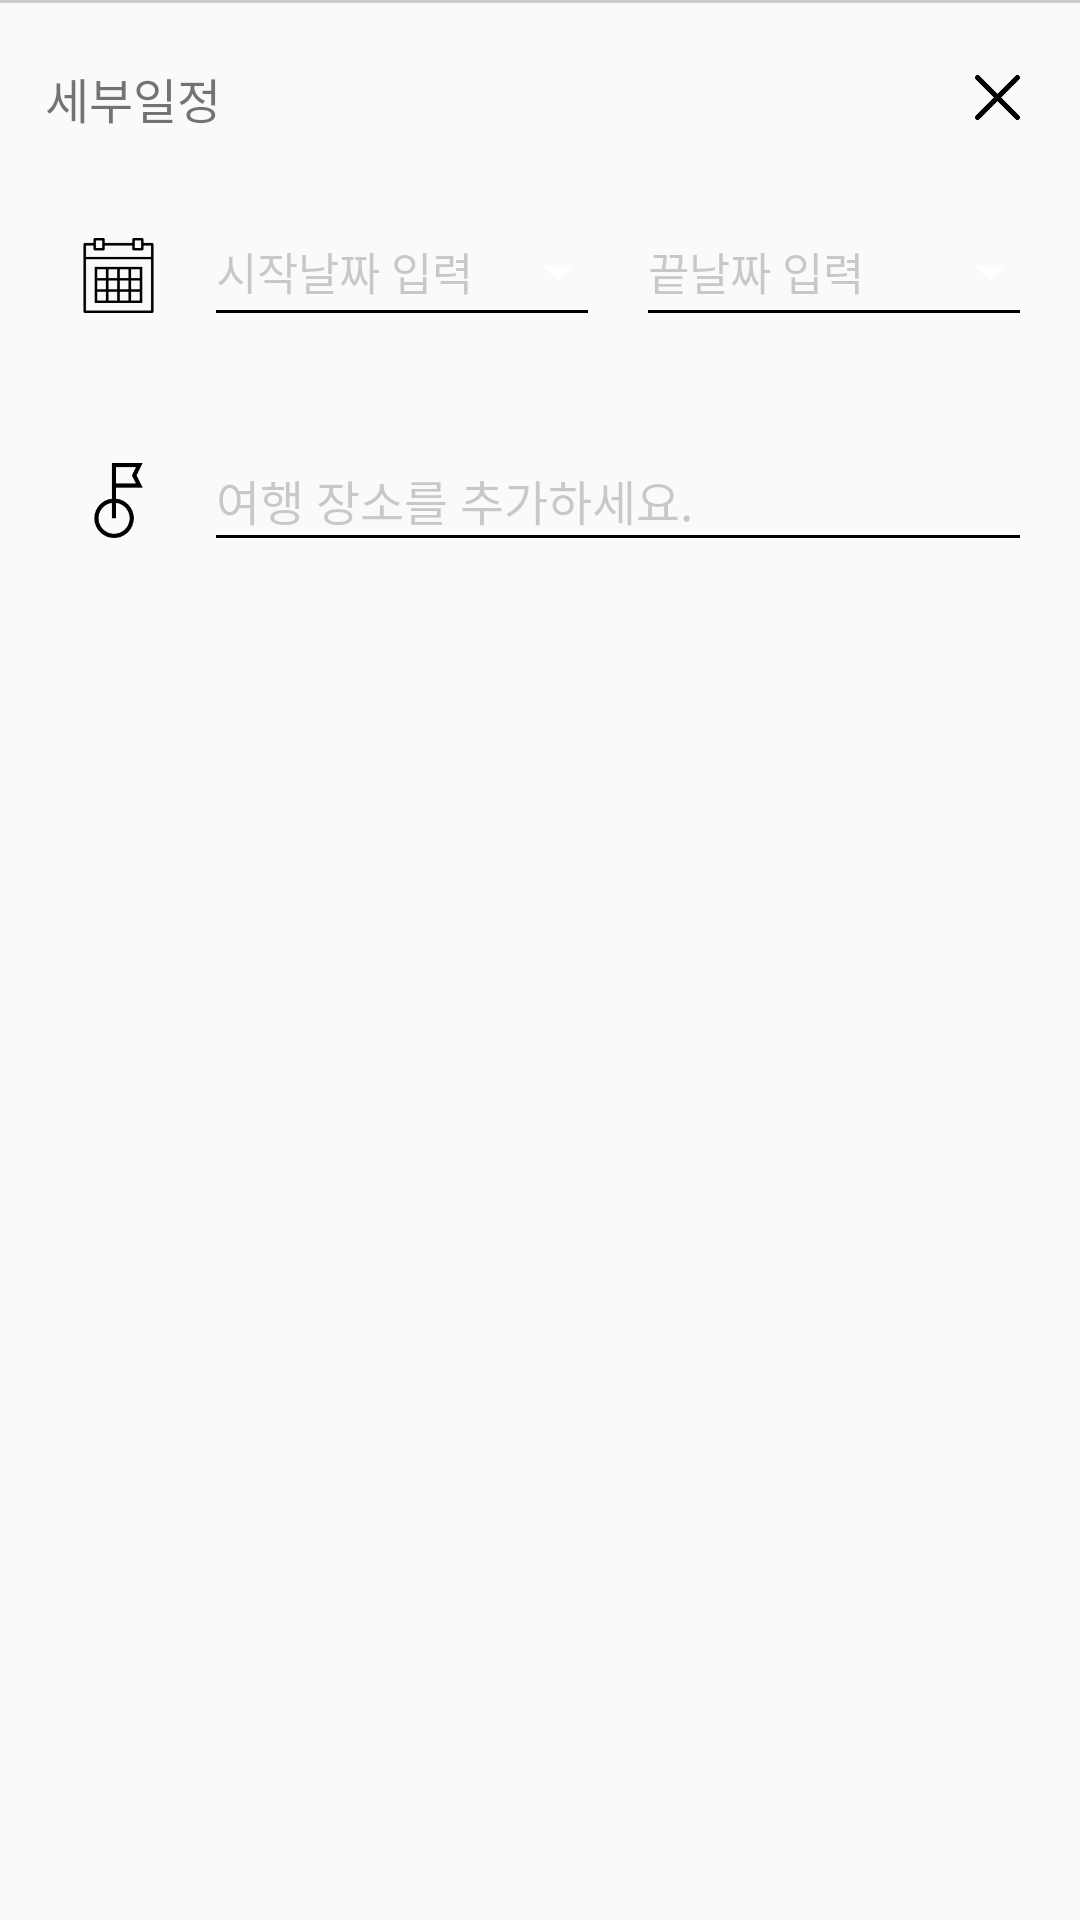

Point at icon controls on the screen. Image size 1080×1920, points as (x=x, y=y).
calendar: (x=118, y=275)
close: (x=997, y=97)
destination: (x=118, y=500)
